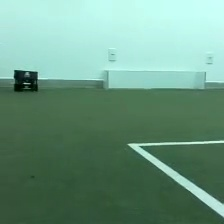goal: (100, 67, 208, 93)
robot: (11, 66, 39, 93)
